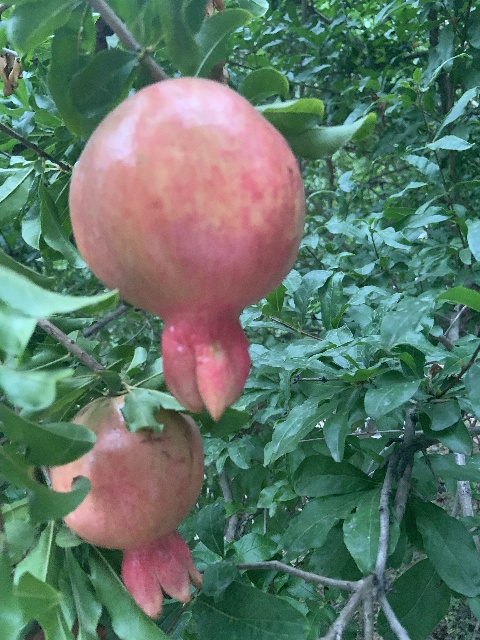ripe: (68, 78, 307, 417), (48, 395, 205, 619)
